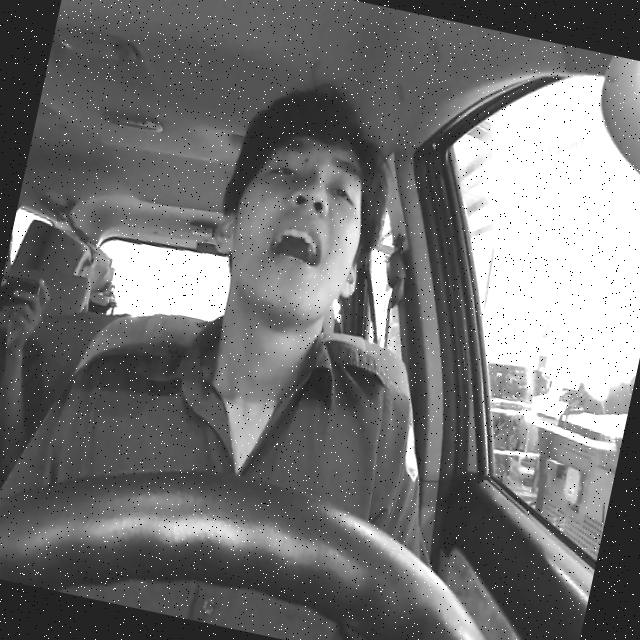yarning: (195, 112, 386, 336)
